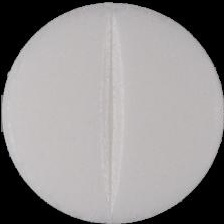54868-1119: (0, 0, 224, 224)
